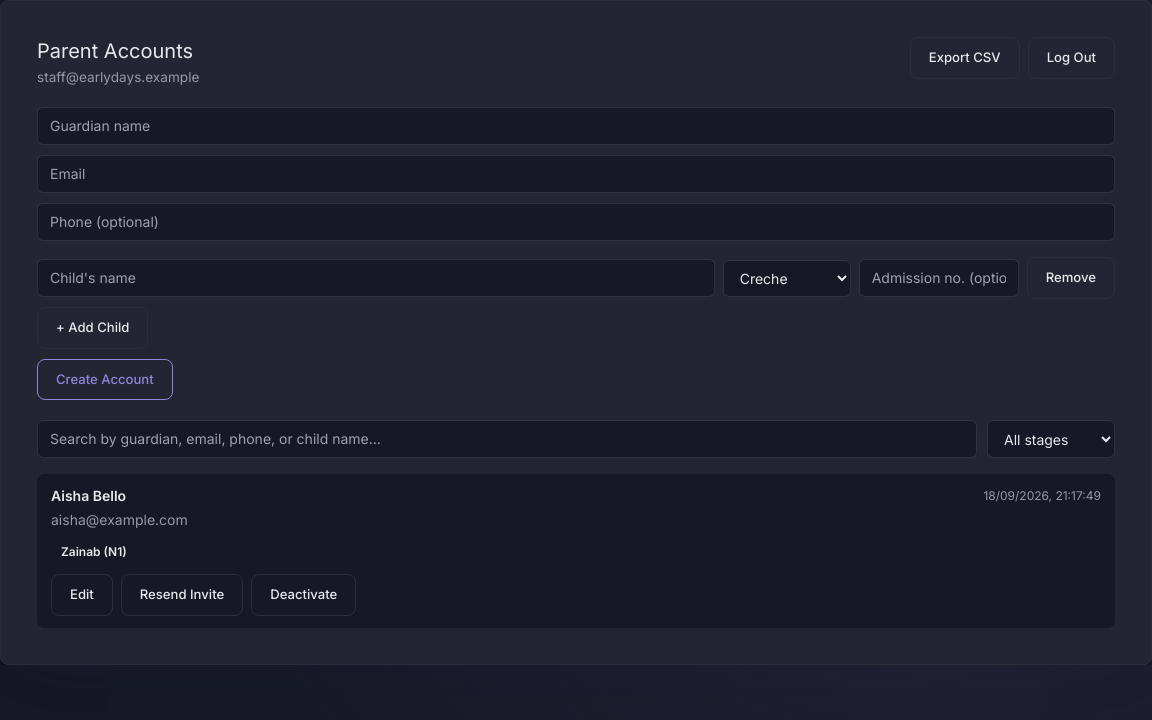
Test: AdminParentsPanel › edits a parent's phone number and updates the list in place
The width and height of the screenshot is (1152, 720).
Click the button "Edit". click: (82, 595)
box: [51, 574, 113, 616]
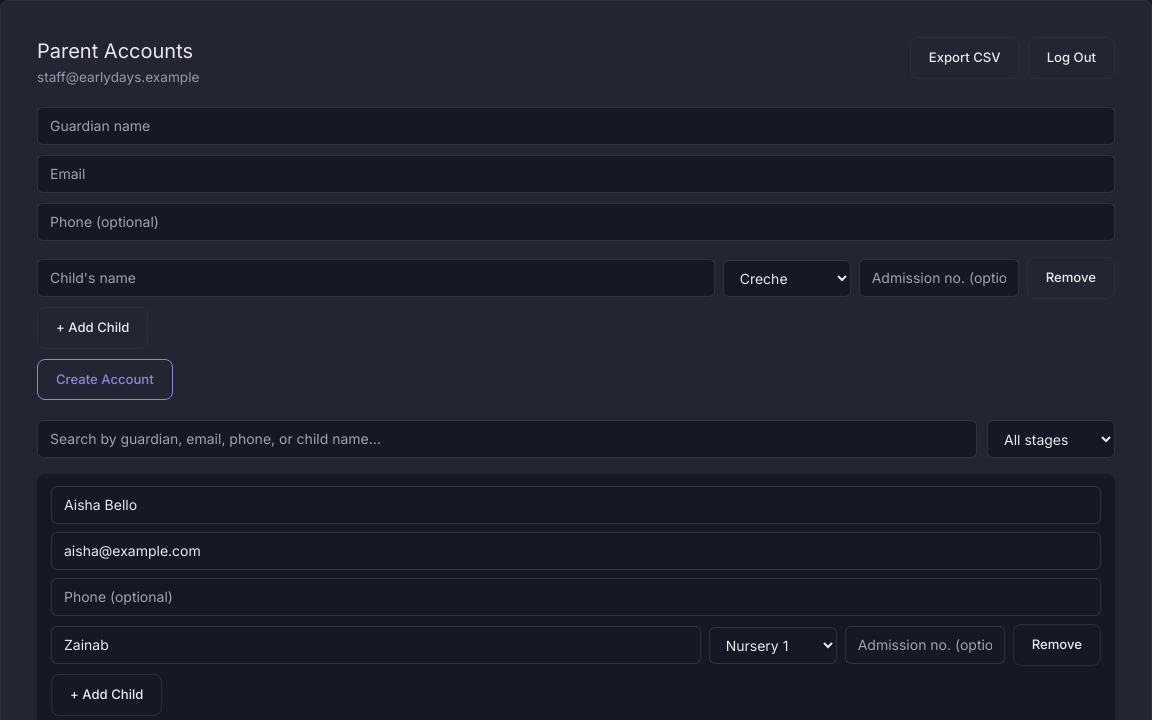
Type "0801234567" into the 2nd field with placeholder "Phone (optional)". click: (576, 598)
box: [51, 578, 1101, 616]
(page scrolled)
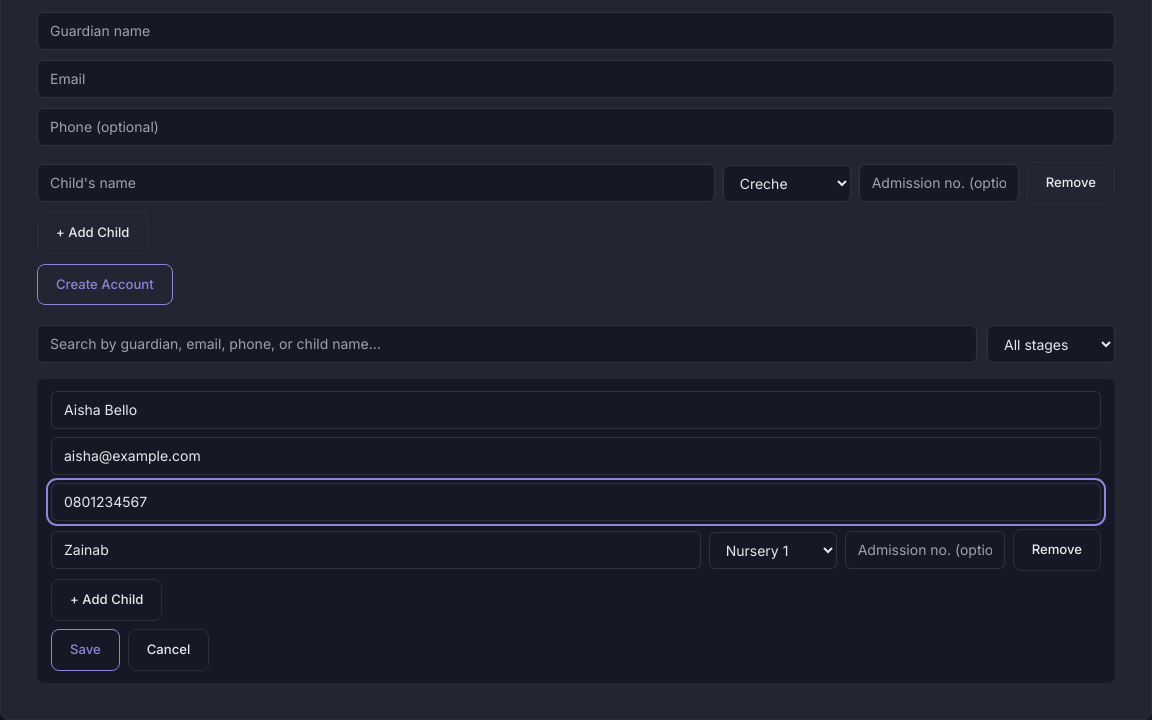
Click the button "Save". click: (85, 650)
box: [51, 629, 120, 670]
(page scrolled)
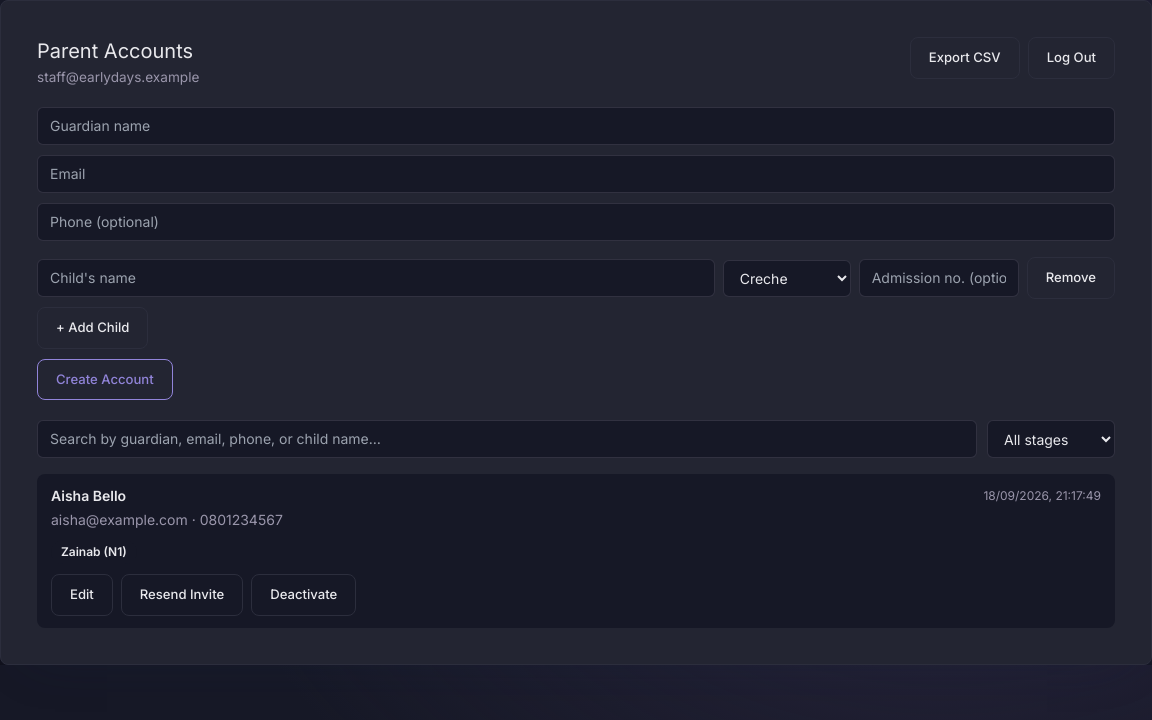
Expected: the text "aisha@example.com · 0801234567" is shown, [51, 512, 283, 528]
Expected: the button "Save" is gone
